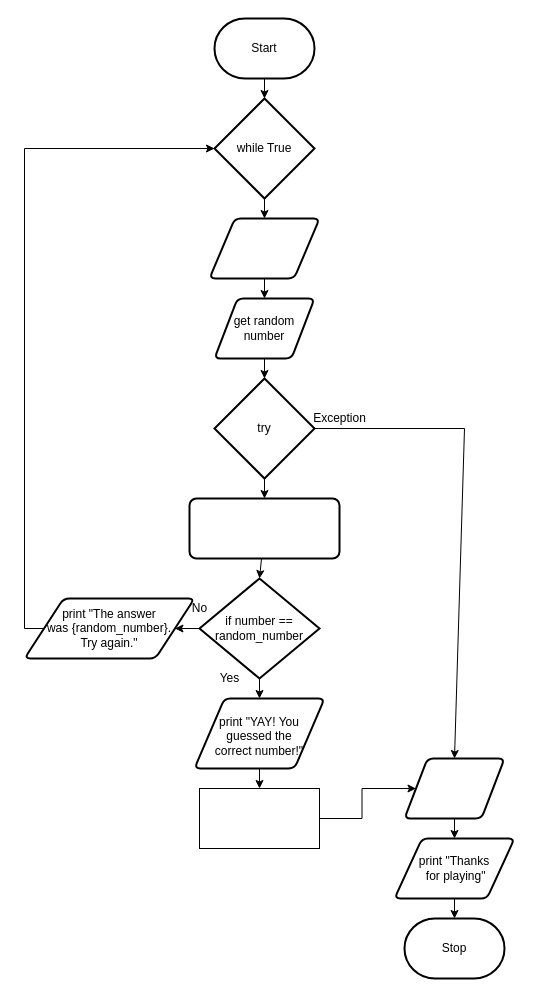
Some shapes in this 533 by 996 pixel diagram are drawn without their labels. The centre of each missing label's shape, as x and y in pixels:
Ask for an integer: pixel 264 248
break: pixel 259 818
convert string to int: pixel 264 528
print "Invalid integer": pixel 454 788
